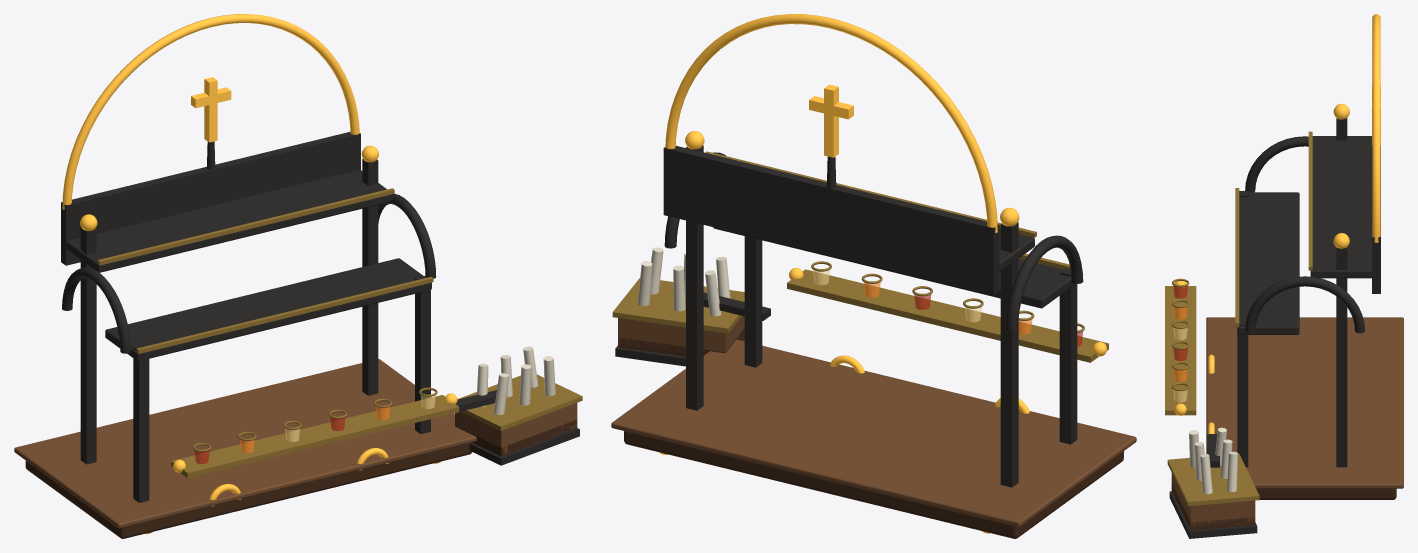
The model's file is rack2.glb.
3 views of the same model, side by side, from view 1: azimuth 30°, elevation 25°; view 2: azimuth 150°, elevation 25°; view 3: azimuth 270°, elevation 25° (orthographic). The views are drawn at different scales.
Parts seen in each view (by area): view 1: BaseTop, Tier (×2), object 30, Basket, object 7, Base, object 31, object 22, object 26, object 23, object 4, object 6 (+4 smaller); view 2: BaseTop, object 30, Basket, object 7, Base, object 31, object 22, object 26, object 23, Tier (×2), object 27, object 25 (+2 smaller); view 3: BaseTop, Tier (×2), Basket, object 7, object 26, object 31, object 29, Base, object 27, object 25, object 6, object 4 (+2 smaller).
Boxes of the visible parts, bbox=[...] form: BaseTop: bbox=[14, 359, 476, 528]; Tier (×2): bbox=[66, 169, 431, 361]; object 30: bbox=[61, 132, 360, 265]; Basket: bbox=[455, 346, 582, 465]; object 7: bbox=[171, 395, 459, 478]; Base: bbox=[25, 442, 471, 538]; object 31: bbox=[62, 14, 359, 209]; object 22: bbox=[80, 227, 96, 464]; object 26: bbox=[362, 158, 378, 395]; object 23: bbox=[133, 344, 149, 502]; object 4: bbox=[136, 276, 433, 353]; object 6: bbox=[97, 188, 394, 265]; BaseTop: bbox=[611, 339, 1136, 527]; object 30: bbox=[663, 145, 999, 295]; Basket: bbox=[612, 247, 744, 366]; object 7: bbox=[787, 269, 1108, 362]; Base: bbox=[624, 431, 1123, 538]; object 31: bbox=[665, 14, 997, 233]; object 22: bbox=[1000, 222, 1018, 487]; object 26: bbox=[686, 145, 703, 410]; object 23: bbox=[1059, 268, 1077, 444]; Tier (×2): bbox=[713, 227, 1075, 308]; object 27: bbox=[744, 236, 762, 367]; object 25: bbox=[1006, 235, 1083, 331]; BaseTop: bbox=[1206, 317, 1403, 488]; Tier (×2): bbox=[1237, 136, 1371, 334]; Basket: bbox=[1167, 427, 1259, 538]; object 7: bbox=[1165, 286, 1196, 415]; object 26: bbox=[1336, 247, 1347, 467]; object 31: bbox=[1372, 14, 1380, 242]; object 29: bbox=[1245, 276, 1364, 333]; Base: bbox=[1256, 488, 1396, 499]; object 27: bbox=[1237, 320, 1248, 467]; object 25: bbox=[1245, 136, 1308, 192]; object 6: bbox=[1308, 131, 1312, 270]; object 4: bbox=[1235, 188, 1239, 326].
Size of the model in its own units: 2.69 by 2.39 by 1.31.
